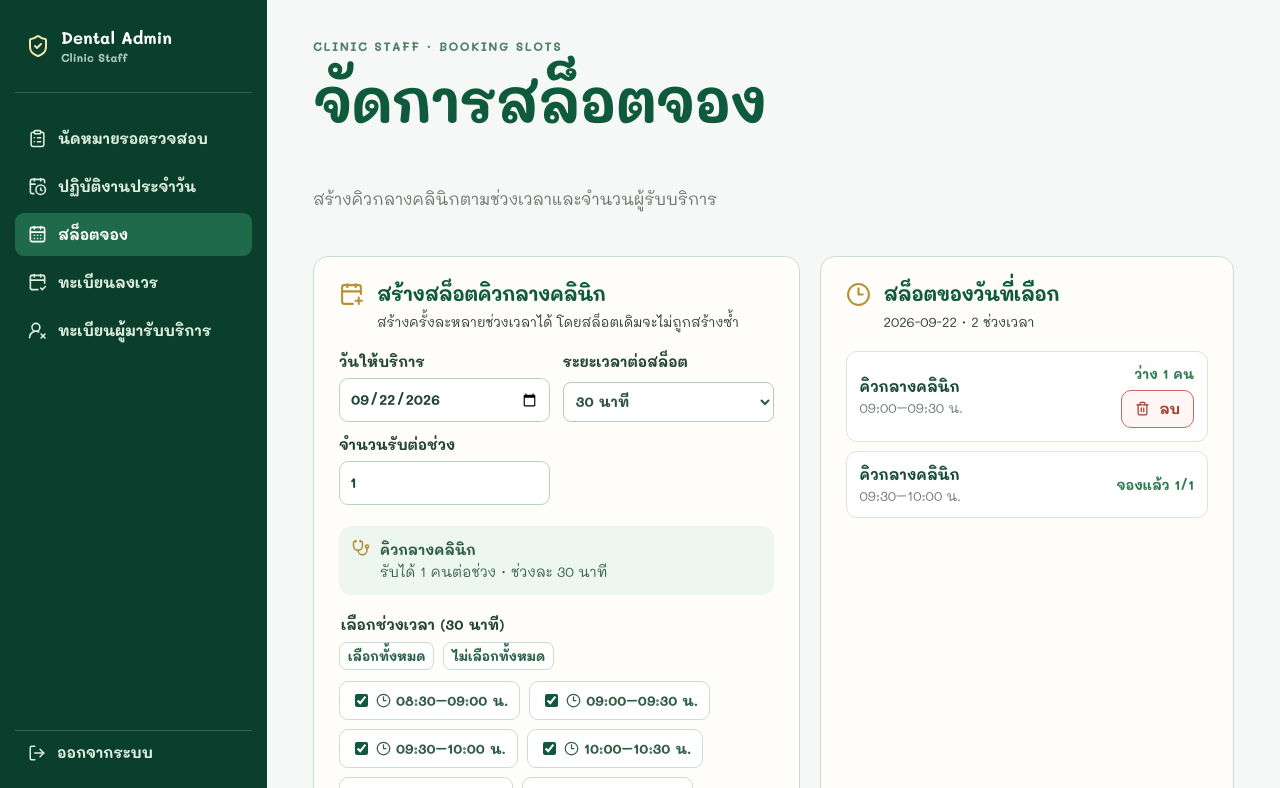
clinic SPA › asks for confirmation in a modal before deleting an unbooked slot and reports success in a toast
Click the button with aria-label "ลบสล็อต 09:00". click: (1158, 409)
box: [1121, 390, 1194, 428]
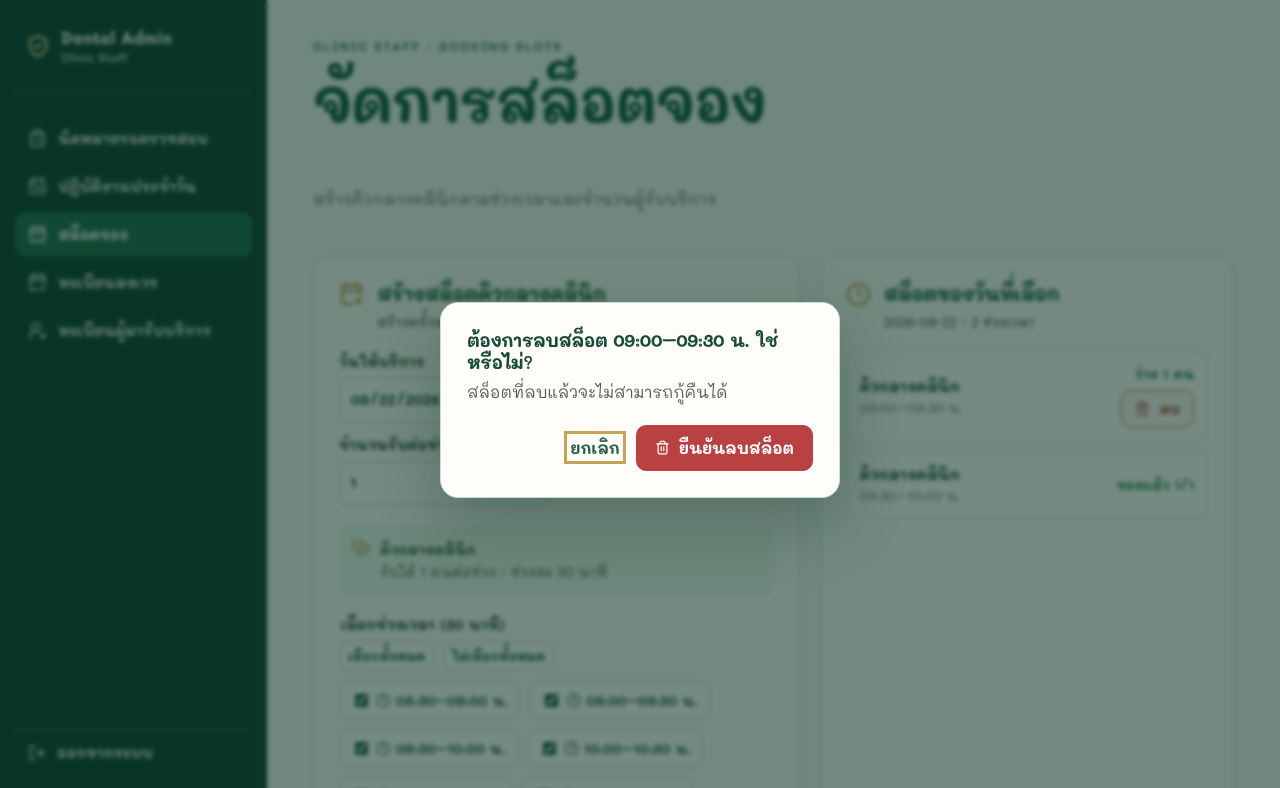
Now the heading "ต้องการลบสล็อต 09:00–09:30 น. ใช่หรือไม่?" is shown, box [467, 329, 813, 372]
Click the button "ยืนยันลบสล็อต". click: (724, 448)
box: [636, 425, 813, 471]
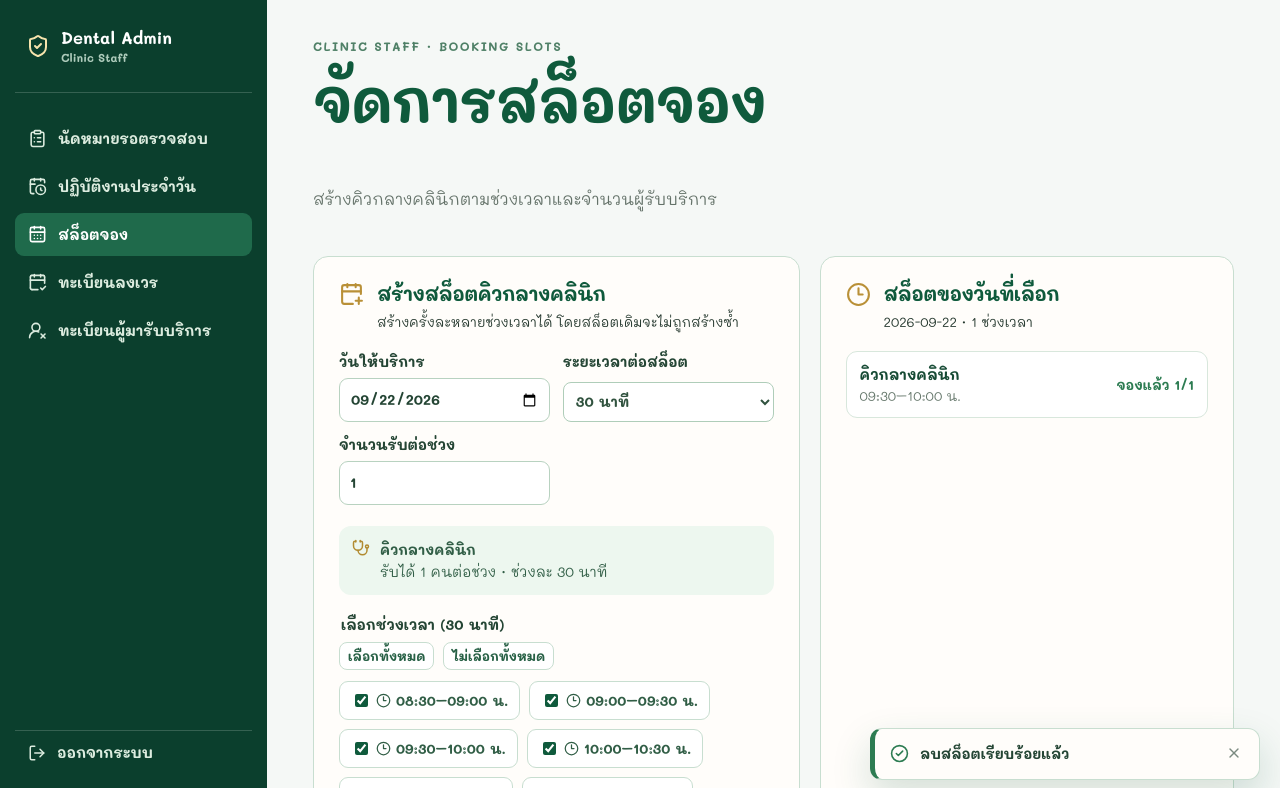
Expected: the text "09:30–10:00 น." is shown, [860, 387, 961, 404]
Now the heading "ลบสล็อต 09:00" is gone
Now the message reads "ลบสล็อตเรียบร้อยแล้ว", box [920, 744, 1069, 763]
